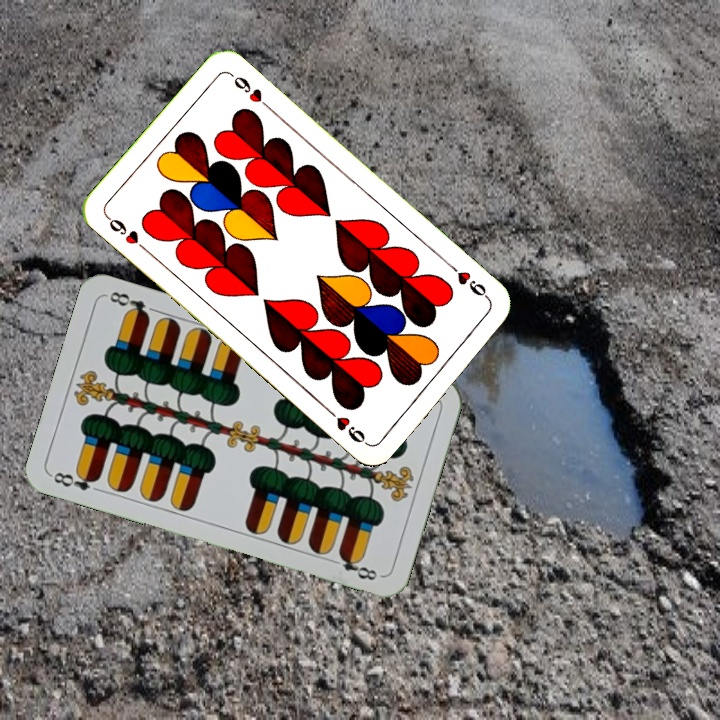E8: (47, 466, 106, 496)
H9: (444, 260, 493, 304), (102, 212, 151, 255)
